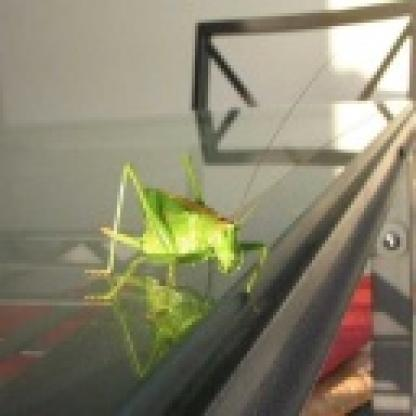grasshopper: (101, 149, 265, 278)
